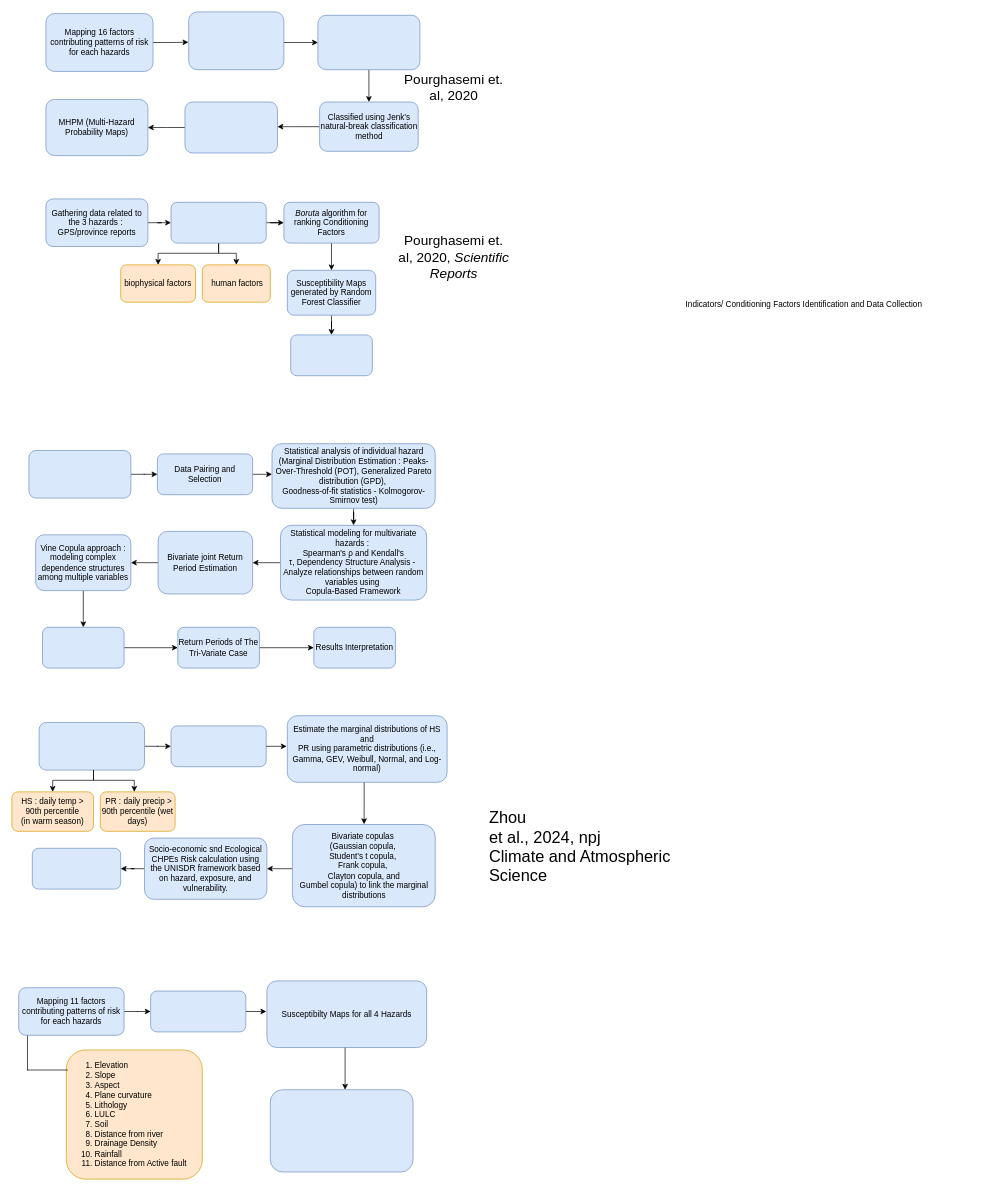
This 986x1191 diagram has some shape labels left out. Each missing label, with the box of its shape:
Bias Correction of GCM precip, temp, and relative humidity using QM: (170, 725, 266, 767)
Data Collection: (28, 450, 131, 498)
Definition and Characterization of CHPEs : HS followed PR within 3 days: (38, 722, 144, 770)
Fuzzy Membership function - Fuzzy Overlay Analysis: (150, 990, 246, 1032)
Identifying Conditioning factors: (170, 202, 266, 243)
Input to ML models: SVM & MARS: (188, 11, 284, 70)
Performance Evaluation: (290, 334, 372, 376)
Project Future CHPEs under Various Scenarios: (32, 848, 121, 889)
Risk classes Mapped: low, moderate, high & very high for individual hazards: (184, 101, 277, 153)
Risk indices calculated for each hazard: (317, 15, 420, 70)
SVM unsupervised classification for Multi-Hazard Map: (270, 1089, 413, 1172)
Three-Dimensional Vine and Pair Copula Construction: (42, 627, 124, 668)
